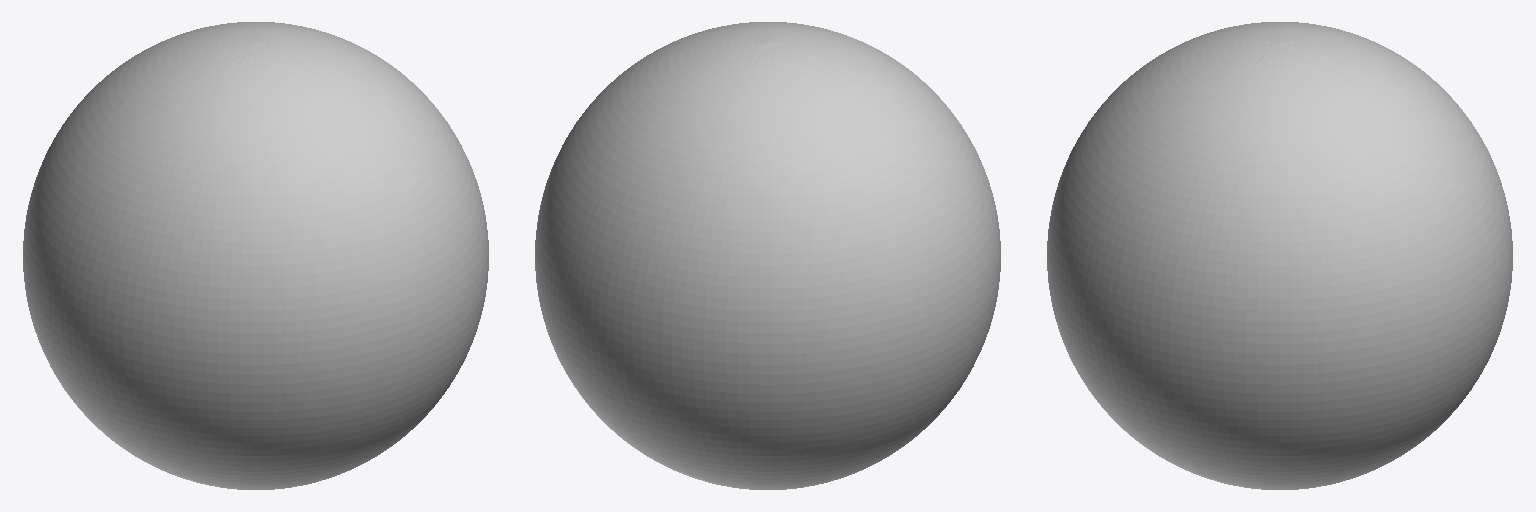
The model's file is bola.obj.
3 renders of one model, left to right at view 1: azimuth 30°, elevation 25°; view 2: azimuth 150°, elevation 25°; view 3: azimuth 270°, elevation 25°, orthographic.
Parts seen in each view (by area): view 1: bola; view 2: bola; view 3: bola.
Part boxes in pixels (left/top/right/bottom): bola: left=23, top=22, right=488, bottom=489; bola: left=535, top=22, right=1000, bottom=489; bola: left=1047, top=22, right=1512, bottom=489.
Bounding box in the file's own units: 1.97 × 2 × 1.97.